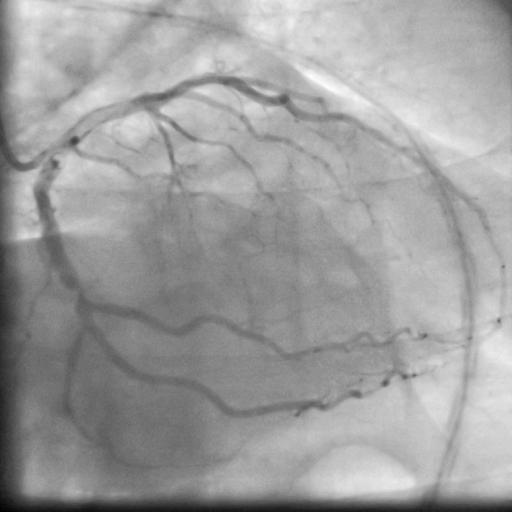Stenosis: (66, 283, 89, 301)
